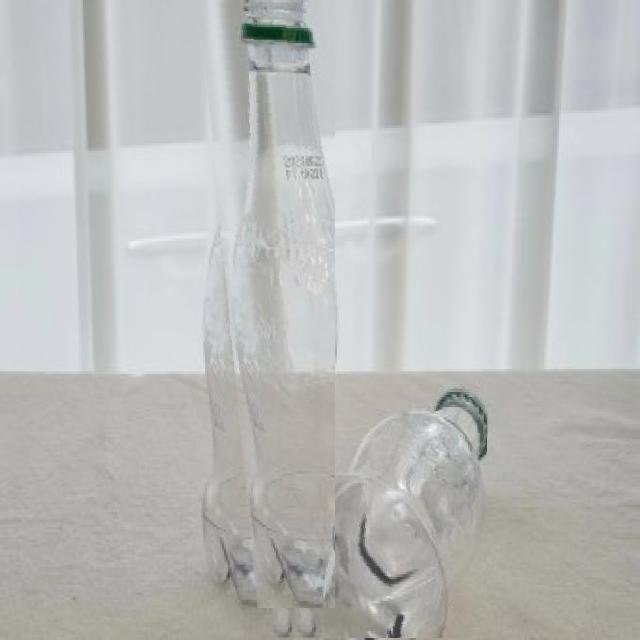plastic bottle: (200, 2, 336, 608), (268, 386, 488, 638)
